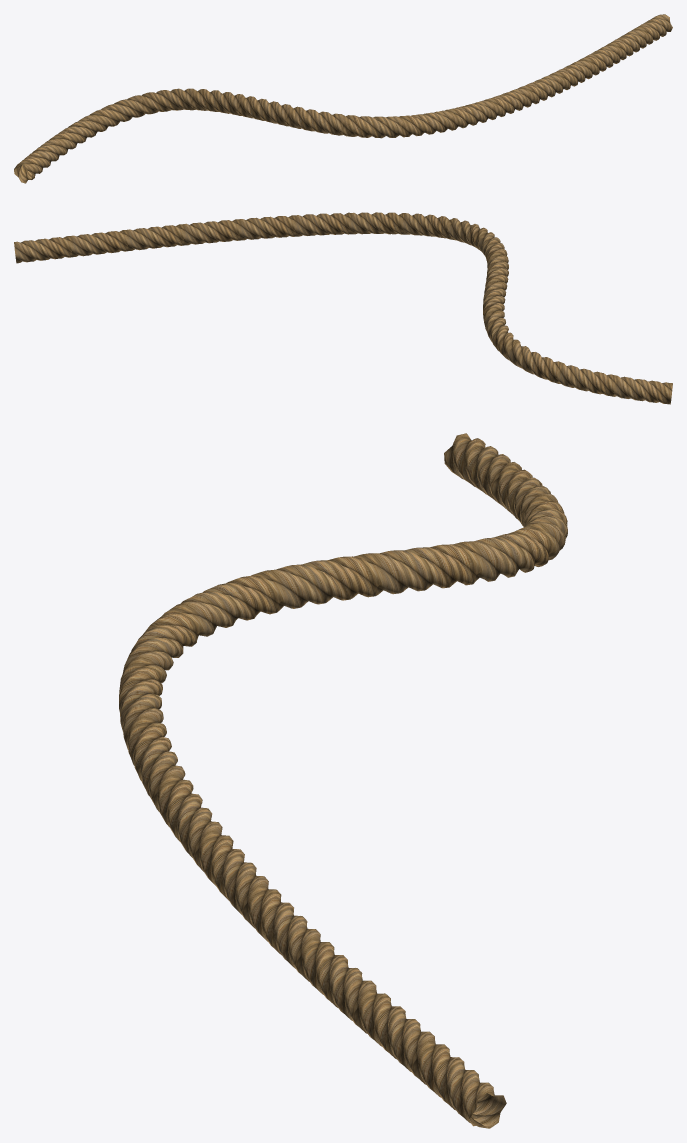
The model's file is Rope.fbx.
3 views of the same model, one above another, from view 1: azimuth 30°, elevation 25°; view 2: azimuth 150°, elevation 25°; view 3: azimuth 270°, elevation 25° (orthographic). The views are drawn at different scales.
Visible parts, largest first — view 1: corde neutre; view 2: corde neutre; view 3: corde neutre.
Part boxes in pixels (x1,y1,x2,y2): corde neutre: (14, 14, 672, 183); corde neutre: (14, 212, 672, 404); corde neutre: (119, 433, 567, 1128).
Size of the model in its own units: 0.2923 by 0.1022 by 0.9859.
